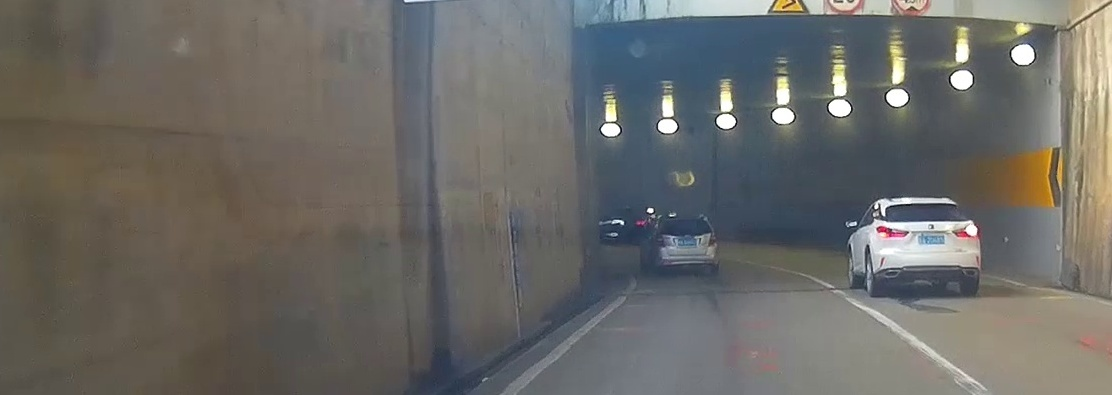L_light: (876, 225, 909, 239)
R_light: (952, 224, 978, 238)
T_light: (914, 202, 932, 206)
day-right: (872, 196, 981, 298)
